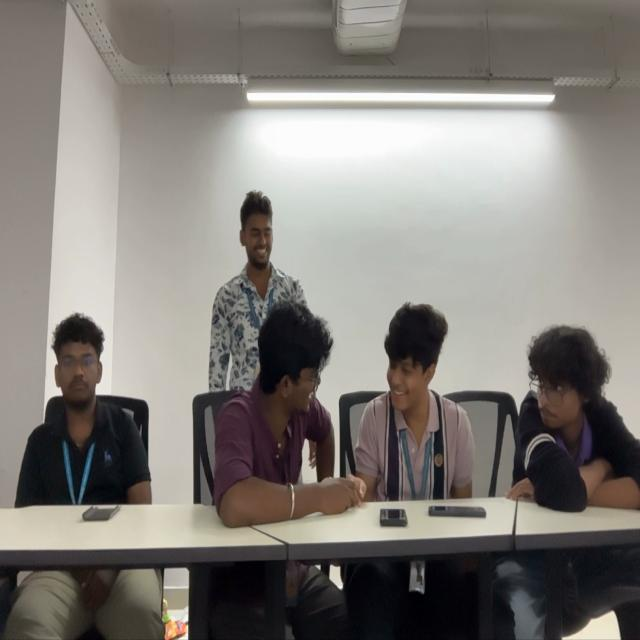Isolated: (15, 315, 151, 503), (509, 326, 640, 510)
socializing: (205, 188, 477, 521)
